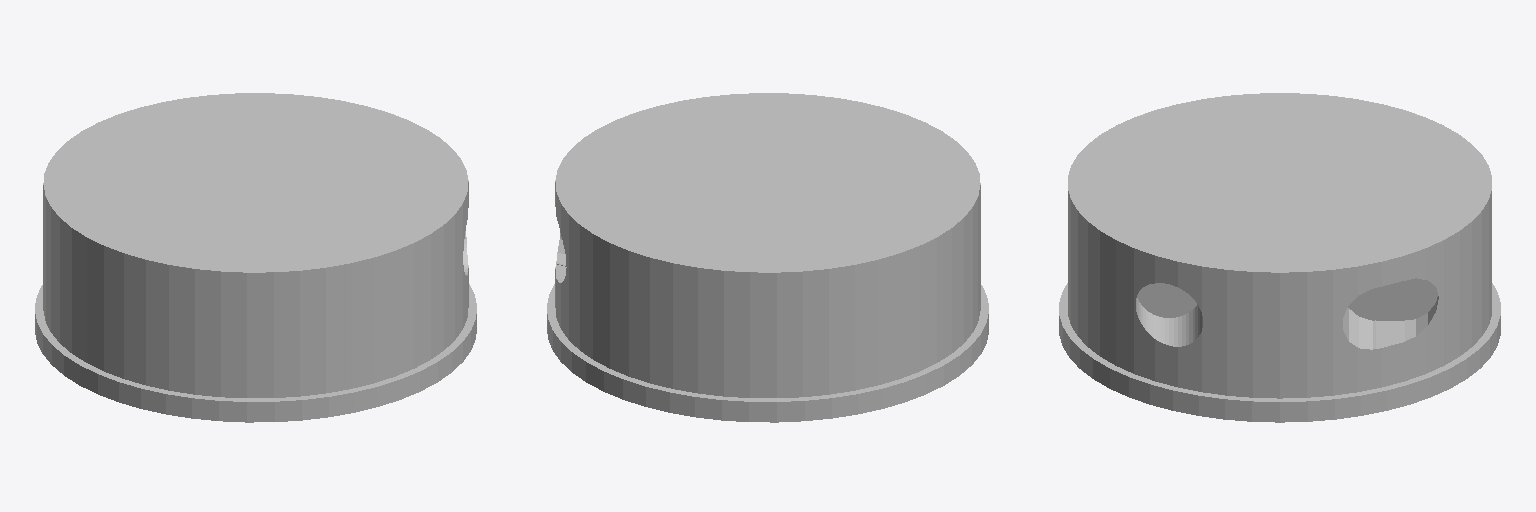
Rendered from mushr_nano_lidar_top 2.obj.
3 renders of one model, left to right at view 1: azimuth 30°, elevation 25°; view 2: azimuth 150°, elevation 25°; view 3: azimuth 270°, elevation 25°, orthographic.
Parts seen in each view (by area): view 1: Racecar_Ydlidar_Top; view 2: Racecar_Ydlidar_Top; view 3: Racecar_Ydlidar_Top.
Boxes of the visible parts, x1=… form: Racecar_Ydlidar_Top: x1=35, y1=93, x2=476, y2=422; Racecar_Ydlidar_Top: x1=547, y1=93, x2=988, y2=422; Racecar_Ydlidar_Top: x1=1059, y1=93, x2=1500, y2=422.
Bounding box in the file's own units: 0.6863 × 0.2503 × 0.6849.